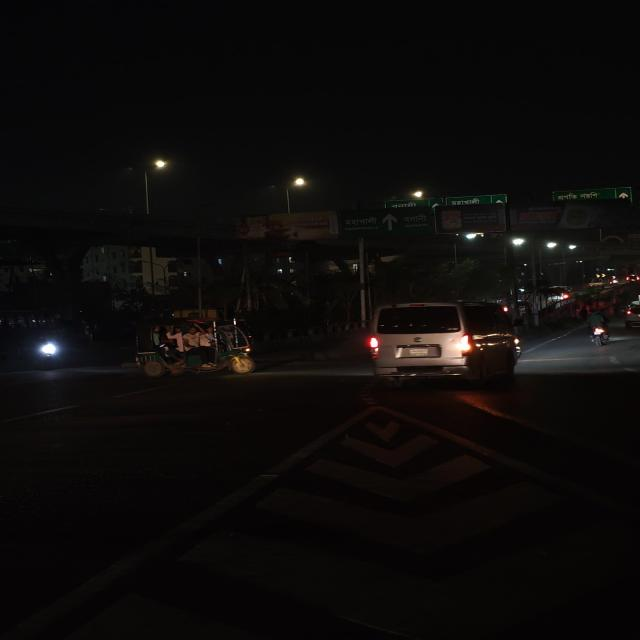car: (362, 304, 518, 387)
motorcycle: (583, 310, 611, 354)
rickshaw: (123, 314, 263, 378)
